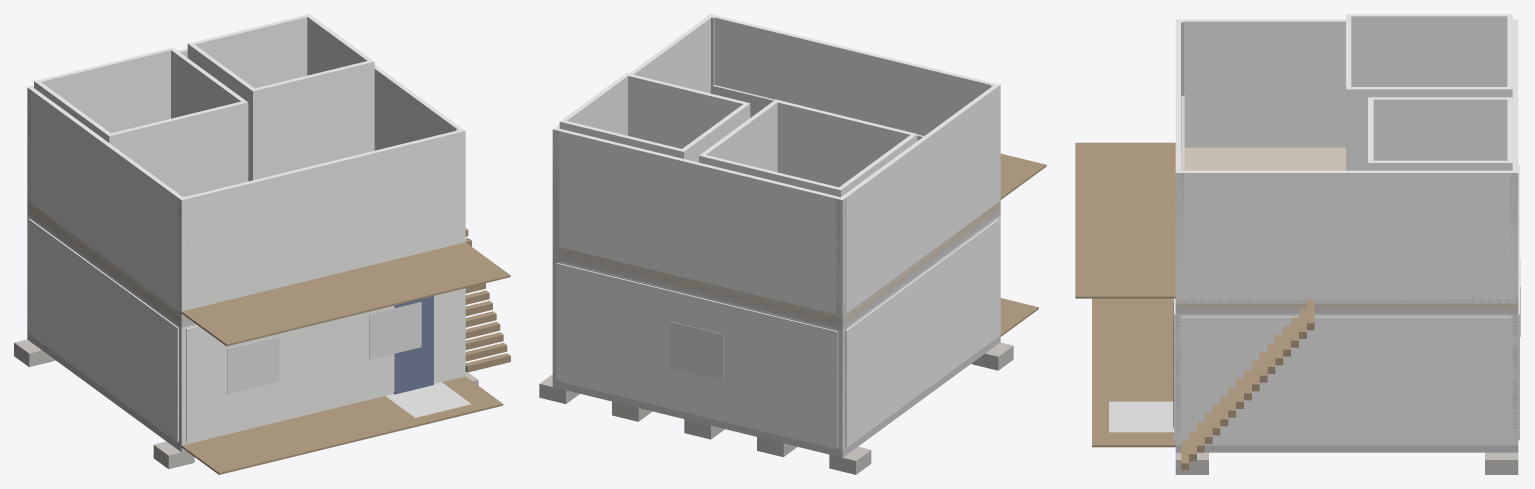
Rendered from Duplex-20-Retirement-LOD0.glb.
3 renders of one model, left to right at view 1: azimuth 30°, elevation 25°; view 2: azimuth 150°, elevation 25°; view 3: azimuth 270°, elevation 25°, orthographic. The views are drawn at different scales.
Parts seen in each view (by area): view 1: ExteriorShellUpper, ExteriorPanelsStandard, StudyUpper, BedroomUpper, BalconyUpper, BalconyGround, WindowsStandard, StaircaseExternal, ExteriorShell, EntryDoor, AccessibilityRetirement, FoundationBlocks (+4 smaller); view 2: ExteriorShellUpper, ExteriorPanelsStandard, BedroomUpper, StudyUpper, FloorUpper, VerticalStructure, FoundationBlocks, BaseFrame, ExteriorShell, WindowsStandard, TopFrame, BalconyUpper (+2 smaller); view 3: ExteriorShellUpper, ExteriorPanelsStandard, BalconyUpper, BedroomUpper, StudyUpper, BalconyGround, FloorUpper, StaircaseExternal, ExteriorShell, BaseFrame, VerticalStructure, AccessibilityRetirement (+2 smaller).
Boxes of the visible parts, x1=… form: ExteriorShellUpper: x1=27, y1=48, x2=465, y2=317; ExteriorPanelsStandard: x1=28, y1=218, x2=461, y2=442; StudyUpper: x1=187, y1=14, x2=374, y2=181; BedroomUpper: x1=34, y1=47, x2=248, y2=196; BalconyUpper: x1=181, y1=242, x2=510, y2=346; BalconyGround: x1=181, y1=376, x2=503, y2=474; WindowsStandard: x1=227, y1=302, x2=421, y2=394; StaircaseExternal: x1=465, y1=228, x2=510, y2=372; ExteriorShell: x1=27, y1=215, x2=465, y2=445; EntryDoor: x1=394, y1=296, x2=433, y2=394; AccessibilityRetirement: x1=386, y1=382, x2=471, y2=417; FoundationBlocks: x1=14, y1=339, x2=478, y2=469; ExteriorShellUpper: x1=552, y1=14, x2=1000, y2=318; ExteriorPanelsStandard: x1=556, y1=219, x2=999, y2=447; BedroomUpper: x1=699, y1=99, x2=917, y2=197; StudyUpper: x1=559, y1=73, x2=750, y2=162; FloorUpper: x1=558, y1=201, x2=1000, y2=325; VerticalStructure: x1=552, y1=17, x2=998, y2=449; FoundationBlocks: x1=539, y1=342, x2=1013, y2=474; BaseFrame: x1=552, y1=335, x2=1000, y2=457; ExteriorShell: x1=556, y1=215, x2=1000, y2=450; WindowsStandard: x1=670, y1=321, x2=723, y2=380; TopFrame: x1=555, y1=210, x2=1000, y2=329; BalconyUpper: x1=1000, y1=153, x2=1046, y2=199; ExteriorShellUpper: x1=1175, y1=19, x2=1518, y2=303; ExteriorPanelsStandard: x1=1174, y1=165, x2=1519, y2=443; BalconyUpper: x1=1075, y1=142, x2=1175, y2=298; BedroomUpper: x1=1346, y1=14, x2=1512, y2=170; StudyUpper: x1=1368, y1=97, x2=1512, y2=170; BalconyGround: x1=1092, y1=298, x2=1175, y2=447; FloorUpper: x1=1175, y1=147, x2=1518, y2=308; StaircaseExternal: x1=1181, y1=299, x2=1314, y2=470; ExteriorShell: x1=1175, y1=314, x2=1518, y2=445; BaseFrame: x1=1175, y1=445, x2=1518, y2=452; VerticalStructure: x1=1175, y1=21, x2=1518, y2=445; AccessibilityRetirement: x1=1109, y1=401, x2=1173, y2=432.
Bounding box in the file's own units: 7.94 × 6 × 8.
